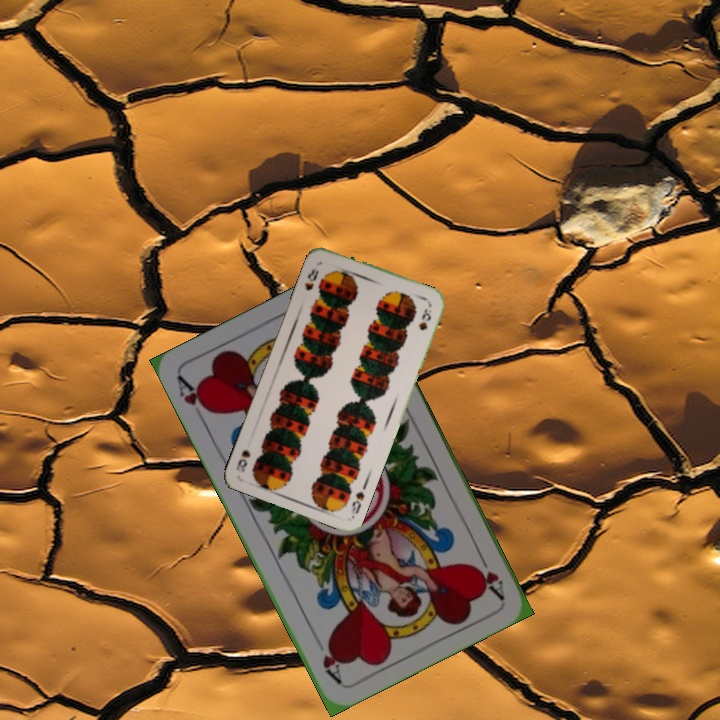HA: (173, 372, 215, 427), (470, 546, 507, 601)
S8: (347, 487, 367, 518), (301, 264, 321, 293)
